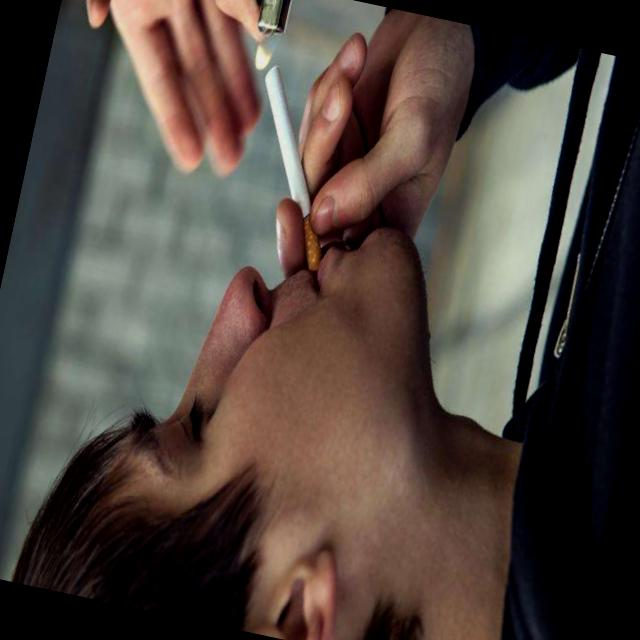cigarette: (240, 47, 318, 209)
